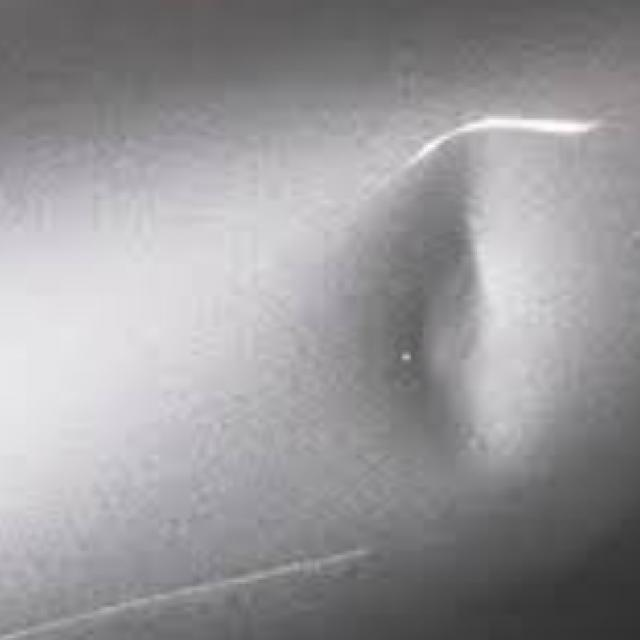dents: (348, 77, 612, 504)
